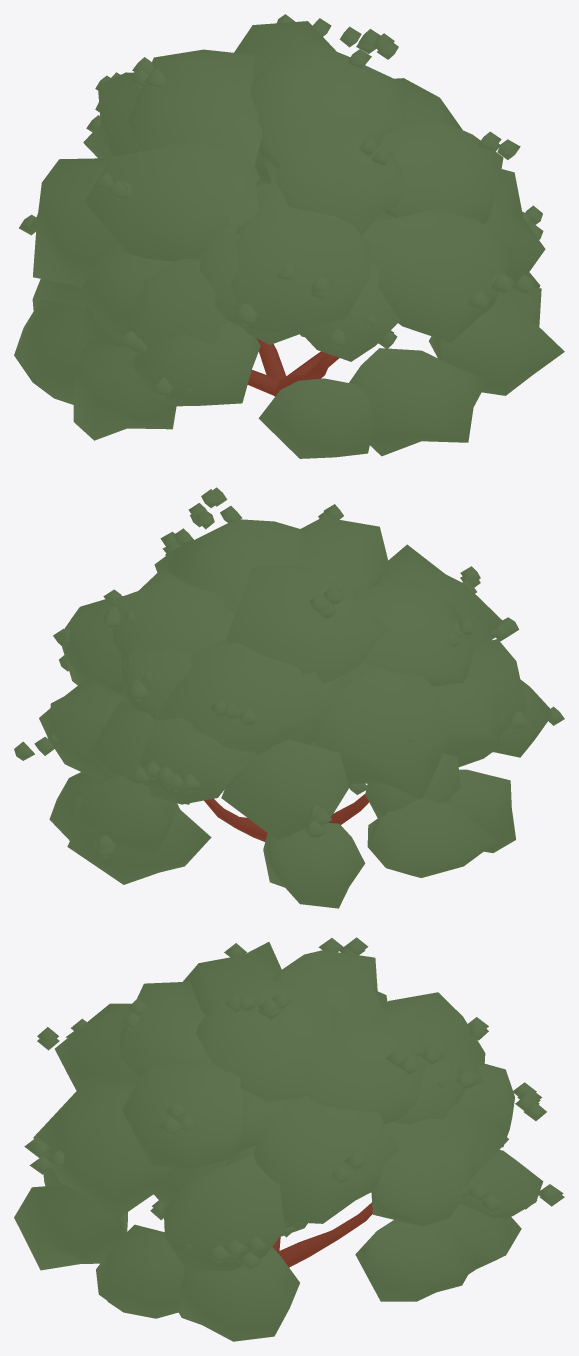
Rendered from Blender_Chaparral_1.glb.
The picture shows the model from 3 angles, top to bottom: view 1: azimuth 30°, elevation 25°; view 2: azimuth 150°, elevation 25°; view 3: azimuth 270°, elevation 25°; orthographic projection. The views are drawn at different scales.
Parts seen in each view (by area): view 1: Blender_Chaparral_1; view 2: Blender_Chaparral_1; view 3: Blender_Chaparral_1.
Part boxes in pixels (left/top/right/bottom): Blender_Chaparral_1: left=14, top=14, right=564, bottom=458; Blender_Chaparral_1: left=14, top=487, right=564, bottom=908; Blender_Chaparral_1: left=14, top=937, right=564, bottom=1341.
Size of the model in its own units: 3.42 by 2.35 by 3.66.
